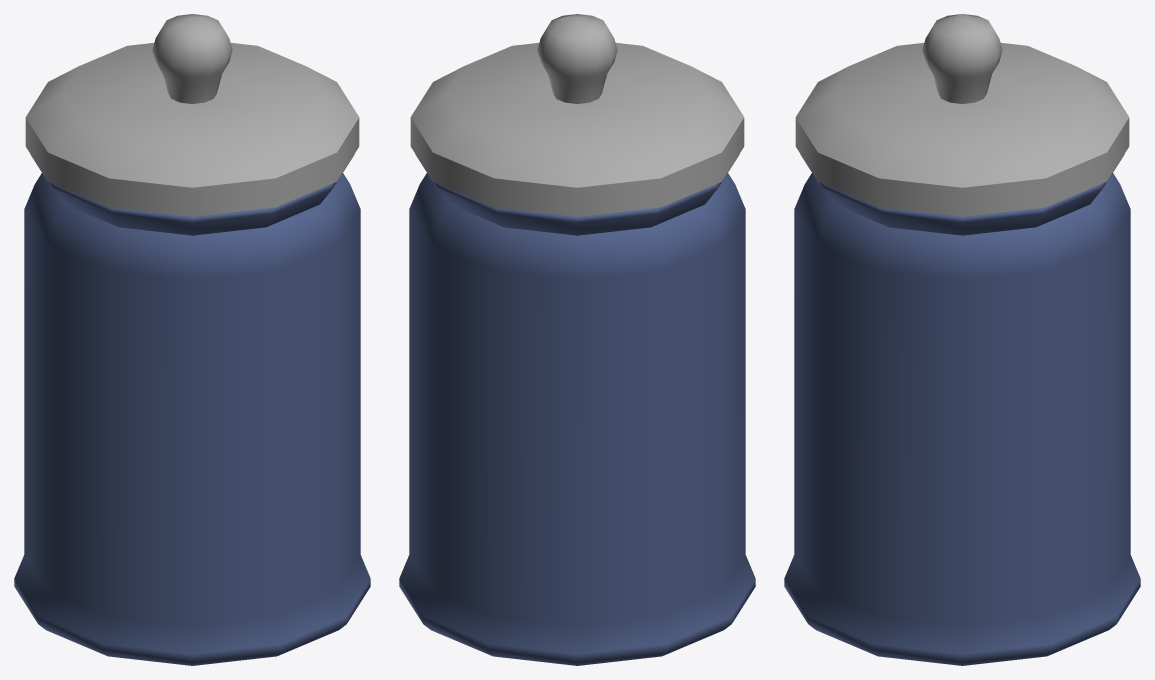
The model's file is JarLarge.fbx.
3 views of the same model, side by side, from view 1: azimuth 30°, elevation 25°; view 2: azimuth 150°, elevation 25°; view 3: azimuth 270°, elevation 25° (orthographic).
Parts seen in each view (by area): view 1: JarLarge_polySurface3; view 2: JarLarge_polySurface3; view 3: JarLarge_polySurface3.
Part boxes in pixels (x1,y1,x2,y2): JarLarge_polySurface3: (14,14,370,665); JarLarge_polySurface3: (399,14,755,665); JarLarge_polySurface3: (784,14,1140,665).
Size of the model in its own units: 2 by 3.58 by 2.
